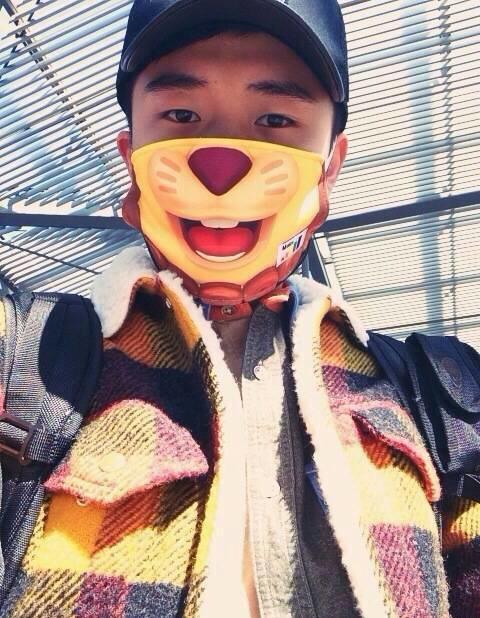OK: (128, 72, 333, 272)
